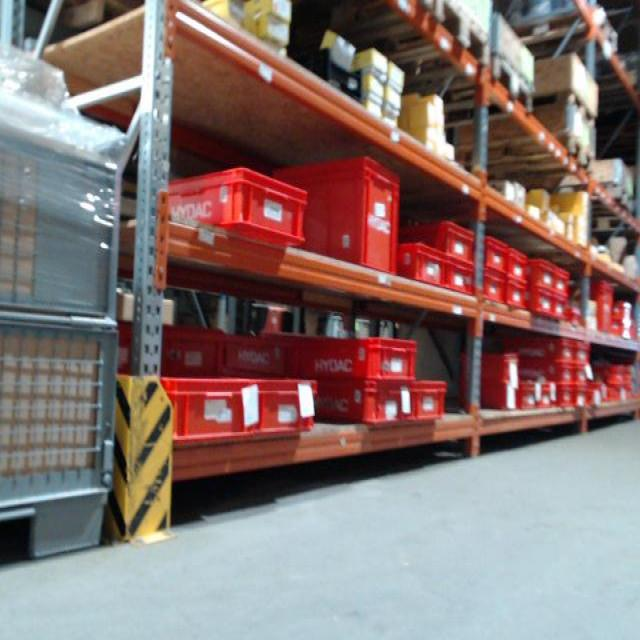pallet: (331, 3, 492, 83), (433, 51, 536, 129), (473, 133, 598, 179), (325, 3, 434, 34), (527, 86, 599, 127), (563, 185, 637, 220)
small_load_carrier: (270, 157, 405, 275), (144, 163, 305, 253), (145, 370, 322, 444), (314, 375, 449, 431), (288, 334, 421, 383), (112, 319, 227, 369), (216, 325, 297, 375), (406, 218, 477, 261), (561, 282, 616, 328), (460, 350, 522, 386), (399, 243, 444, 290), (465, 386, 522, 413), (506, 362, 575, 384), (437, 261, 477, 295), (506, 341, 577, 360), (483, 234, 510, 277), (525, 291, 556, 324), (480, 276, 509, 305), (530, 259, 556, 291), (506, 282, 531, 312), (586, 364, 624, 382), (513, 248, 531, 282), (512, 387, 537, 410), (574, 387, 592, 413), (602, 387, 624, 408), (553, 300, 571, 325), (559, 266, 571, 300), (539, 386, 554, 412), (560, 385, 576, 409), (576, 364, 592, 387), (576, 342, 592, 364), (614, 303, 634, 320), (591, 384, 604, 406)
stillage: (2, 114, 135, 565)
